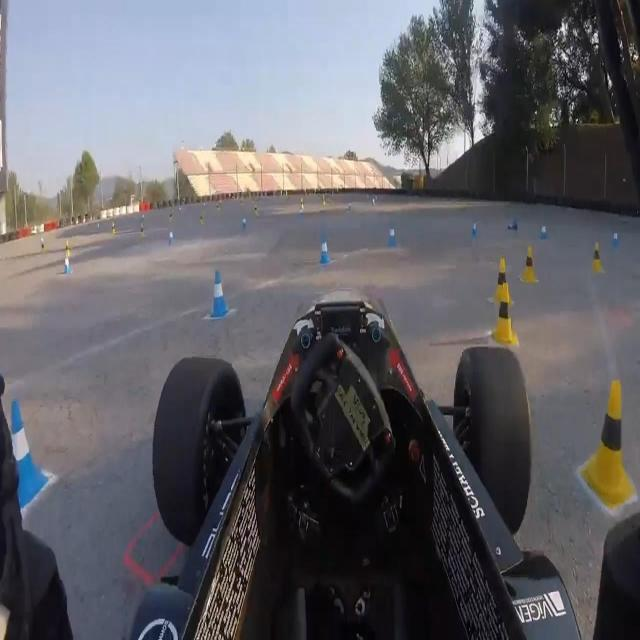blue_cone: (8, 400, 49, 512), (201, 269, 241, 328), (312, 228, 338, 270), (384, 216, 404, 249), (464, 212, 481, 240)
yellow_cone: (586, 374, 635, 512), (494, 279, 517, 346), (519, 237, 540, 290), (492, 258, 510, 306), (586, 234, 608, 268)
